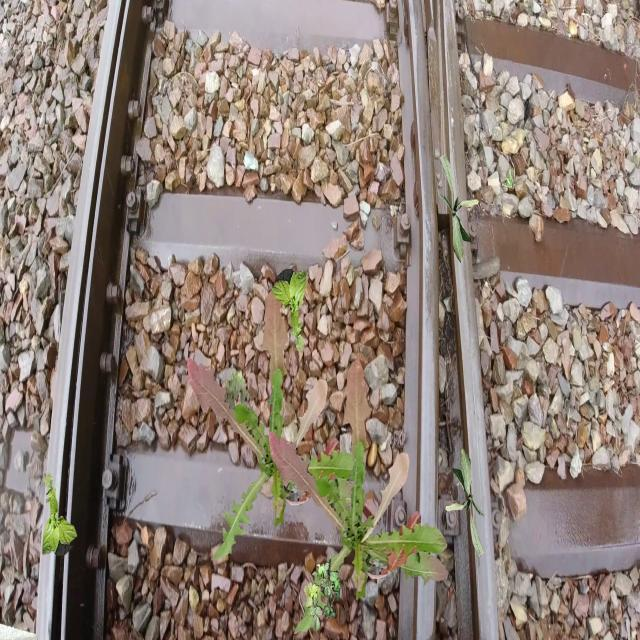Plant: (187, 283, 367, 561), (269, 356, 449, 634), (445, 448, 485, 558), (439, 153, 479, 263), (42, 473, 78, 556), (271, 268, 306, 352), (304, 559, 342, 632), (224, 367, 250, 410), (502, 168, 516, 188)
